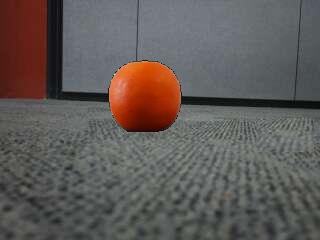Orange: (108, 61, 181, 133)
